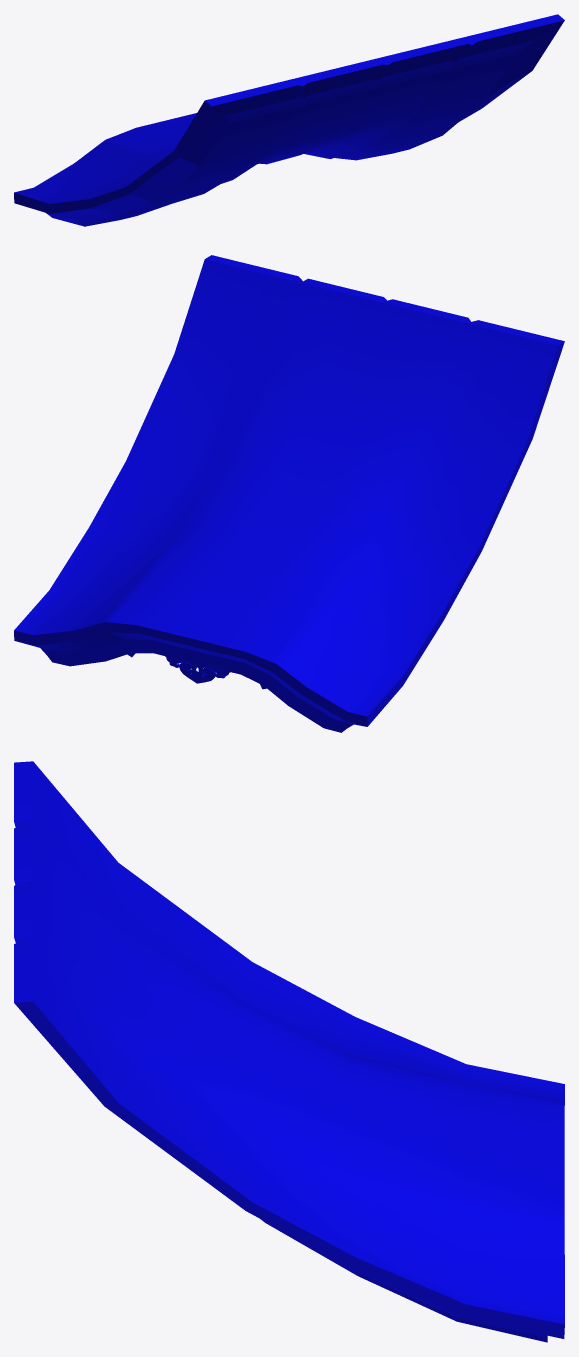
Rendered from finalornamentcurve.fbx.
3 views of the same model, one above another, from view 1: azimuth 30°, elevation 25°; view 2: azimuth 150°, elevation 25°; view 3: azimuth 270°, elevation 25° (orthographic). The views are drawn at different scales.
Visible parts, largest first — view 1: finalornamentcurve; view 2: finalornamentcurve; view 3: finalornamentcurve.
Boxes of the visible parts, left/top/right/bottom form: finalornamentcurve: left=14, top=14, right=564, bottom=226; finalornamentcurve: left=14, top=255, right=564, bottom=732; finalornamentcurve: left=14, top=761, right=564, bottom=1342.
Size of the model in its own units: 307 by 216 by 298.
